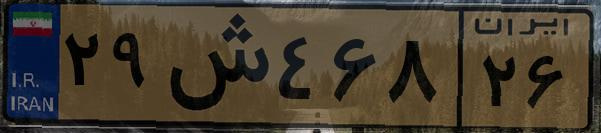2: (57, 26, 110, 100), (475, 38, 525, 113)
4: (270, 28, 330, 110)
6: (330, 28, 385, 110), (525, 38, 570, 115)
8: (385, 28, 445, 110)
9: (110, 28, 158, 98)
ش: (158, 12, 270, 120)
